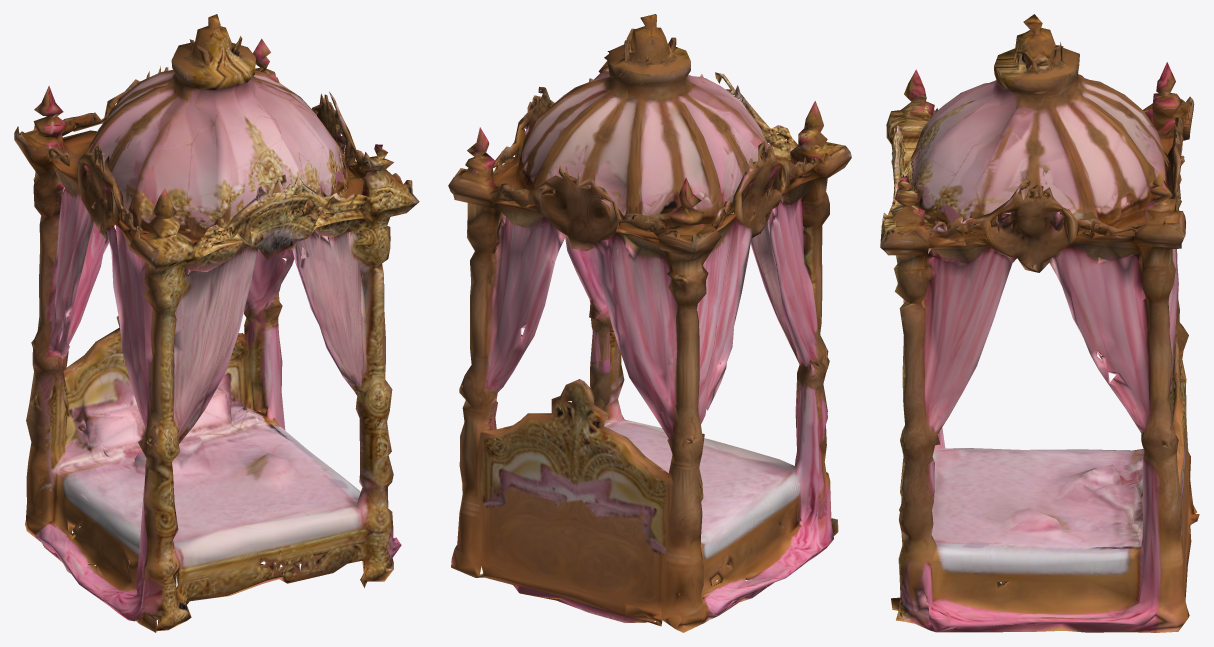
Rendered from Meshy_AI_An_extravagant_fairy_1016070342_texture.fbx.
The picture shows the model from 3 angles, left to right: view 1: azimuth 30°, elevation 25°; view 2: azimuth 150°, elevation 25°; view 3: azimuth 270°, elevation 25°; orthographic projection. The views are drawn at different scales.
Parts seen in each view (by area): view 1: Mesh_0; view 2: Mesh_0; view 3: Mesh_0.
Part boxes in pixels (x1,y1,x2,y2): Mesh_0: [14, 14, 419, 632]; Mesh_0: [448, 14, 851, 632]; Mesh_0: [880, 14, 1199, 632].
Bounding box in the file's own units: 104 × 200 × 104.
1 material, 1 textured.
